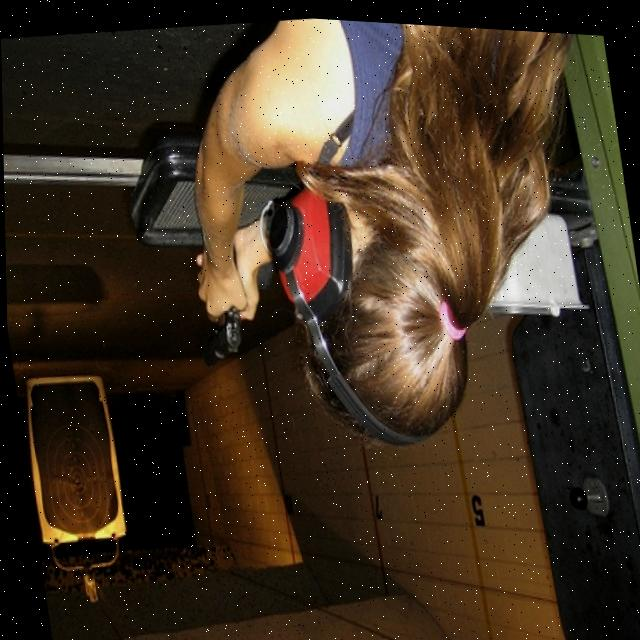pistol: (191, 298, 245, 368)
